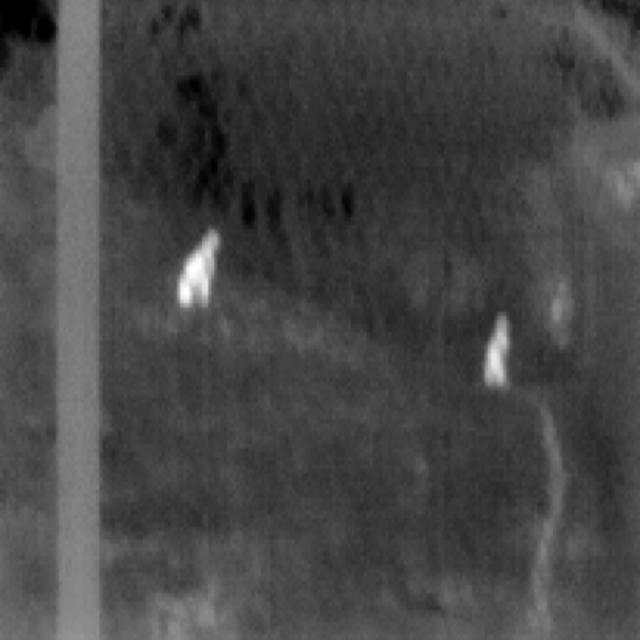cheetah: (177, 230, 220, 307), (484, 314, 509, 386)
